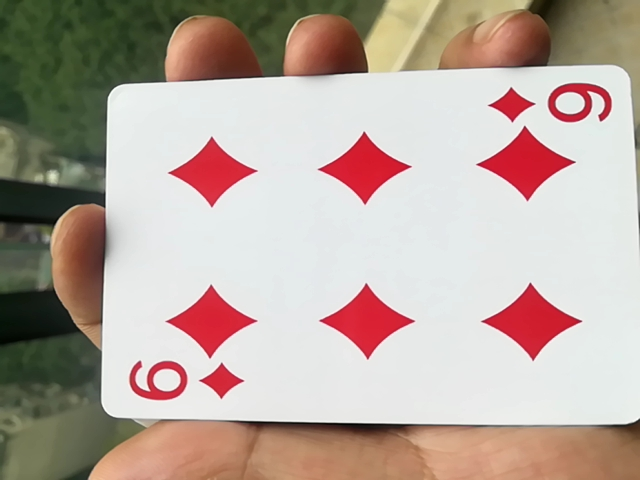fk 6: (76, 81, 638, 446)
